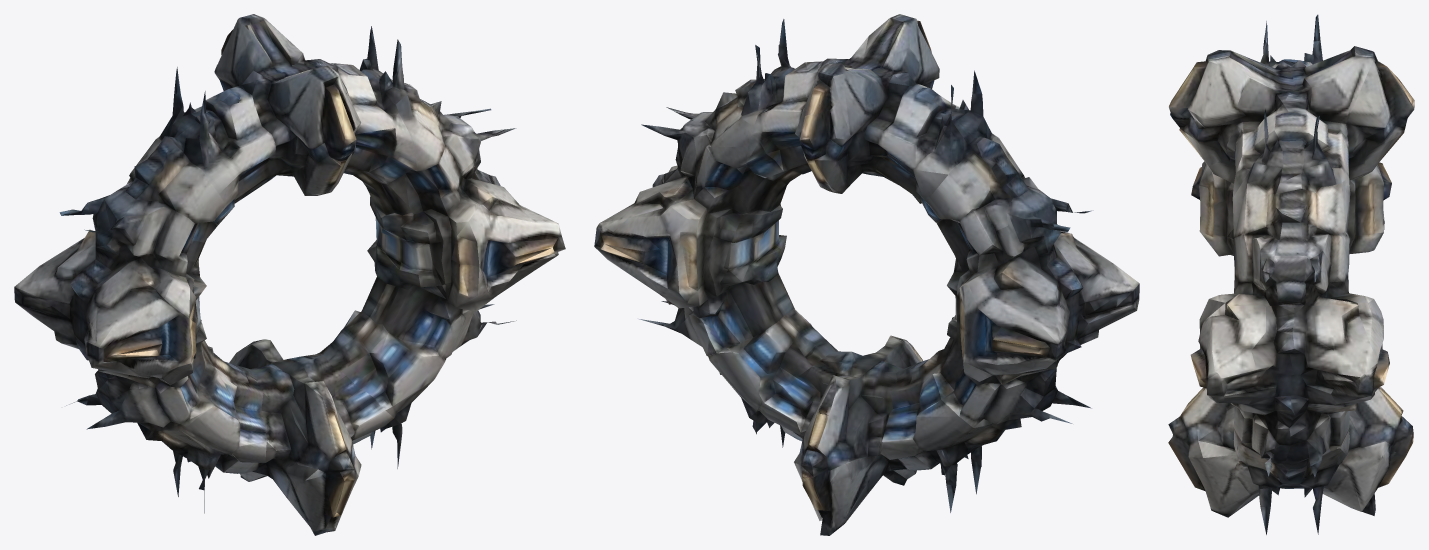
File: jump_gate_ring.glb
3 views of the same model, side by side, from view 1: azimuth 30°, elevation 25°; view 2: azimuth 150°, elevation 25°; view 3: azimuth 270°, elevation 25° (orthographic).
Visible parts, largest first — view 1: JumpGateRing; view 2: JumpGateRing; view 3: JumpGateRing.
Part boxes in pixels (bbox=[...]): JumpGateRing: bbox=[14, 14, 565, 535]; JumpGateRing: bbox=[594, 14, 1139, 535]; JumpGateRing: bbox=[1168, 14, 1414, 534].
Bounding box in the file's own units: 5.67 × 5.42 × 2.6.
Materials: 1 (1 with a texture image).
